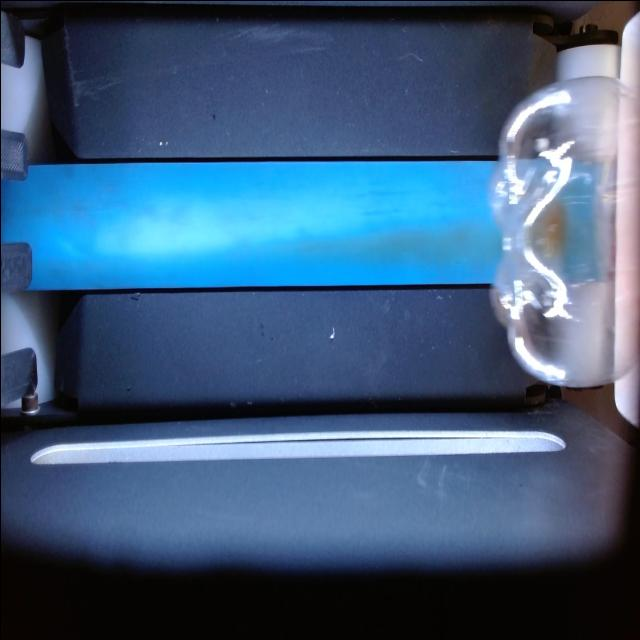bottom: (491, 76, 619, 384)
